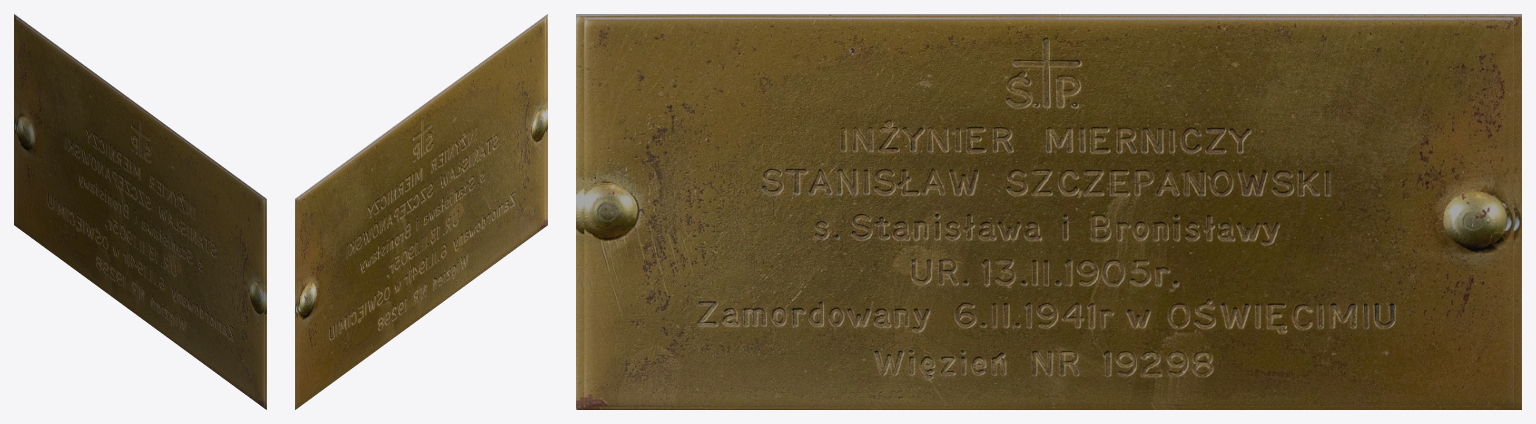
The model's file is 14. Stanisław Szczepanowski.glb.
3 renders of one model, left to right at view 1: azimuth 30°, elevation 25°; view 2: azimuth 150°, elevation 25°; view 3: azimuth 270°, elevation 25°, orthographic. The views are drawn at different scales.
Parts seen in each view (by area): view 1: Plane; view 2: Plane; view 3: Plane.
Boxes of the visible parts, box(x1,y1,x2,y2) form: Plane: box(14, 14, 266, 409); Plane: box(295, 14, 547, 409); Plane: box(576, 14, 1521, 409).
Size of the model in its own units: 0.0246 by 6 by 13.
Materials: 1 (1 with a texture image).
